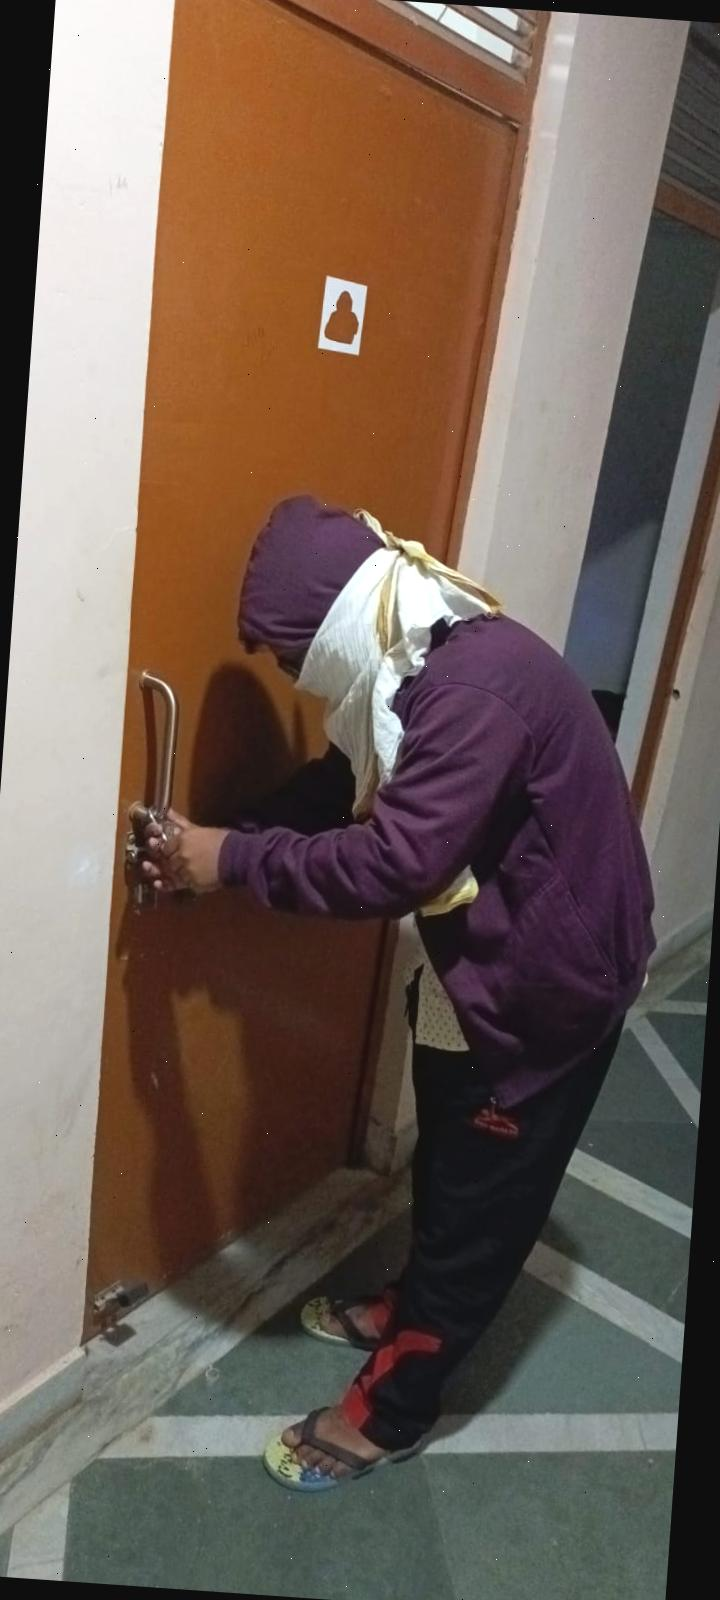suspicion: (0, 447, 720, 1563), (144, 479, 706, 1556)
